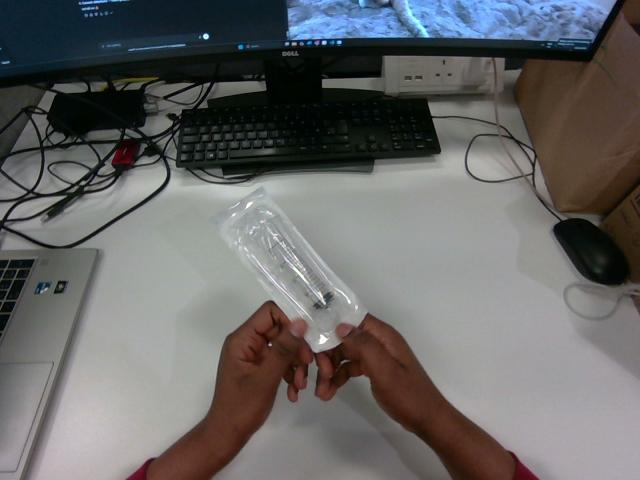syringe: (213, 188, 365, 351)
